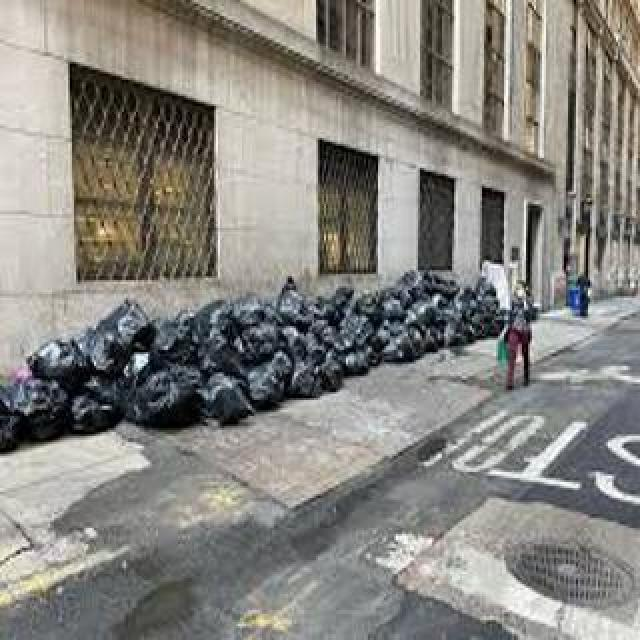high trash: (0, 272, 506, 451)
